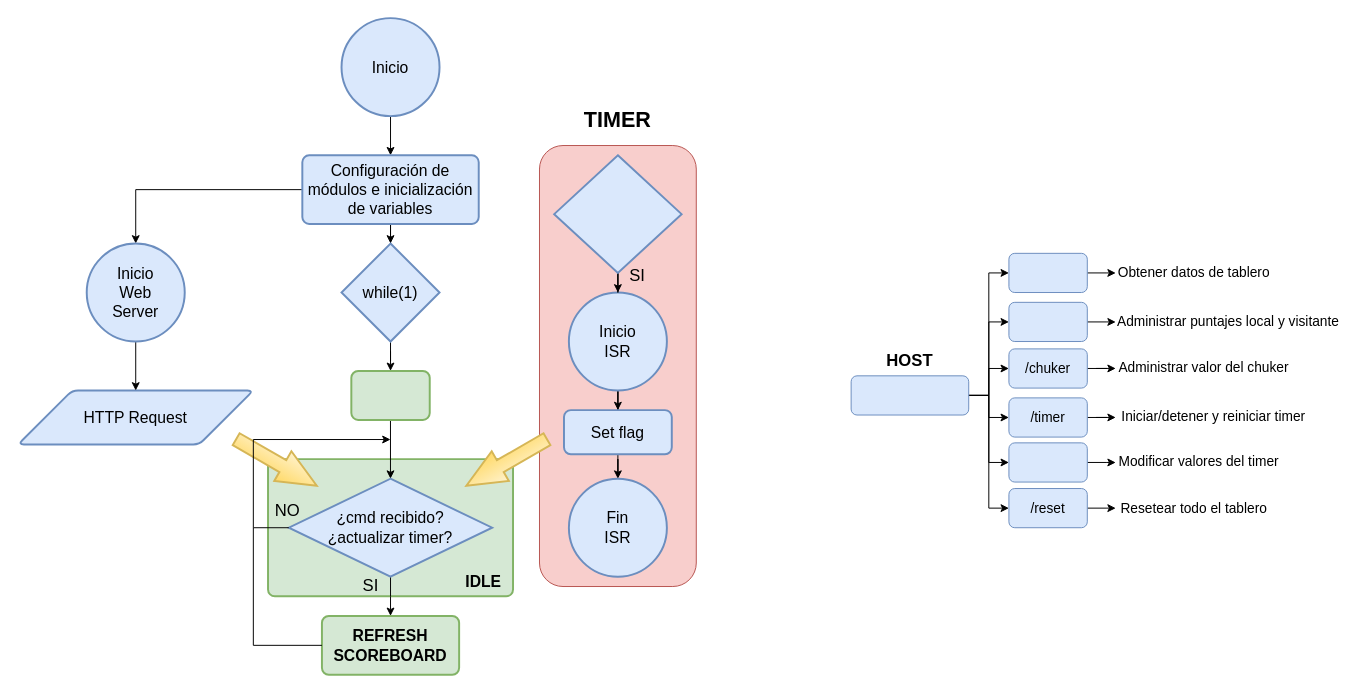
Some shapes in this 1357 by 692 pixel diagram are drawn without their labels. The box of each missing label's shape, as (x1, y1, x2, y2) in pixels:
/score: (1008, 301, 1087, 342)
/scoreboard: (1008, 252, 1087, 293)
/timer/set: (1008, 442, 1087, 482)
http://192.168.4.1: (850, 375, 969, 415)
INIT: (350, 369, 430, 420)
¿segundo transcurrido?: (553, 154, 682, 273)
